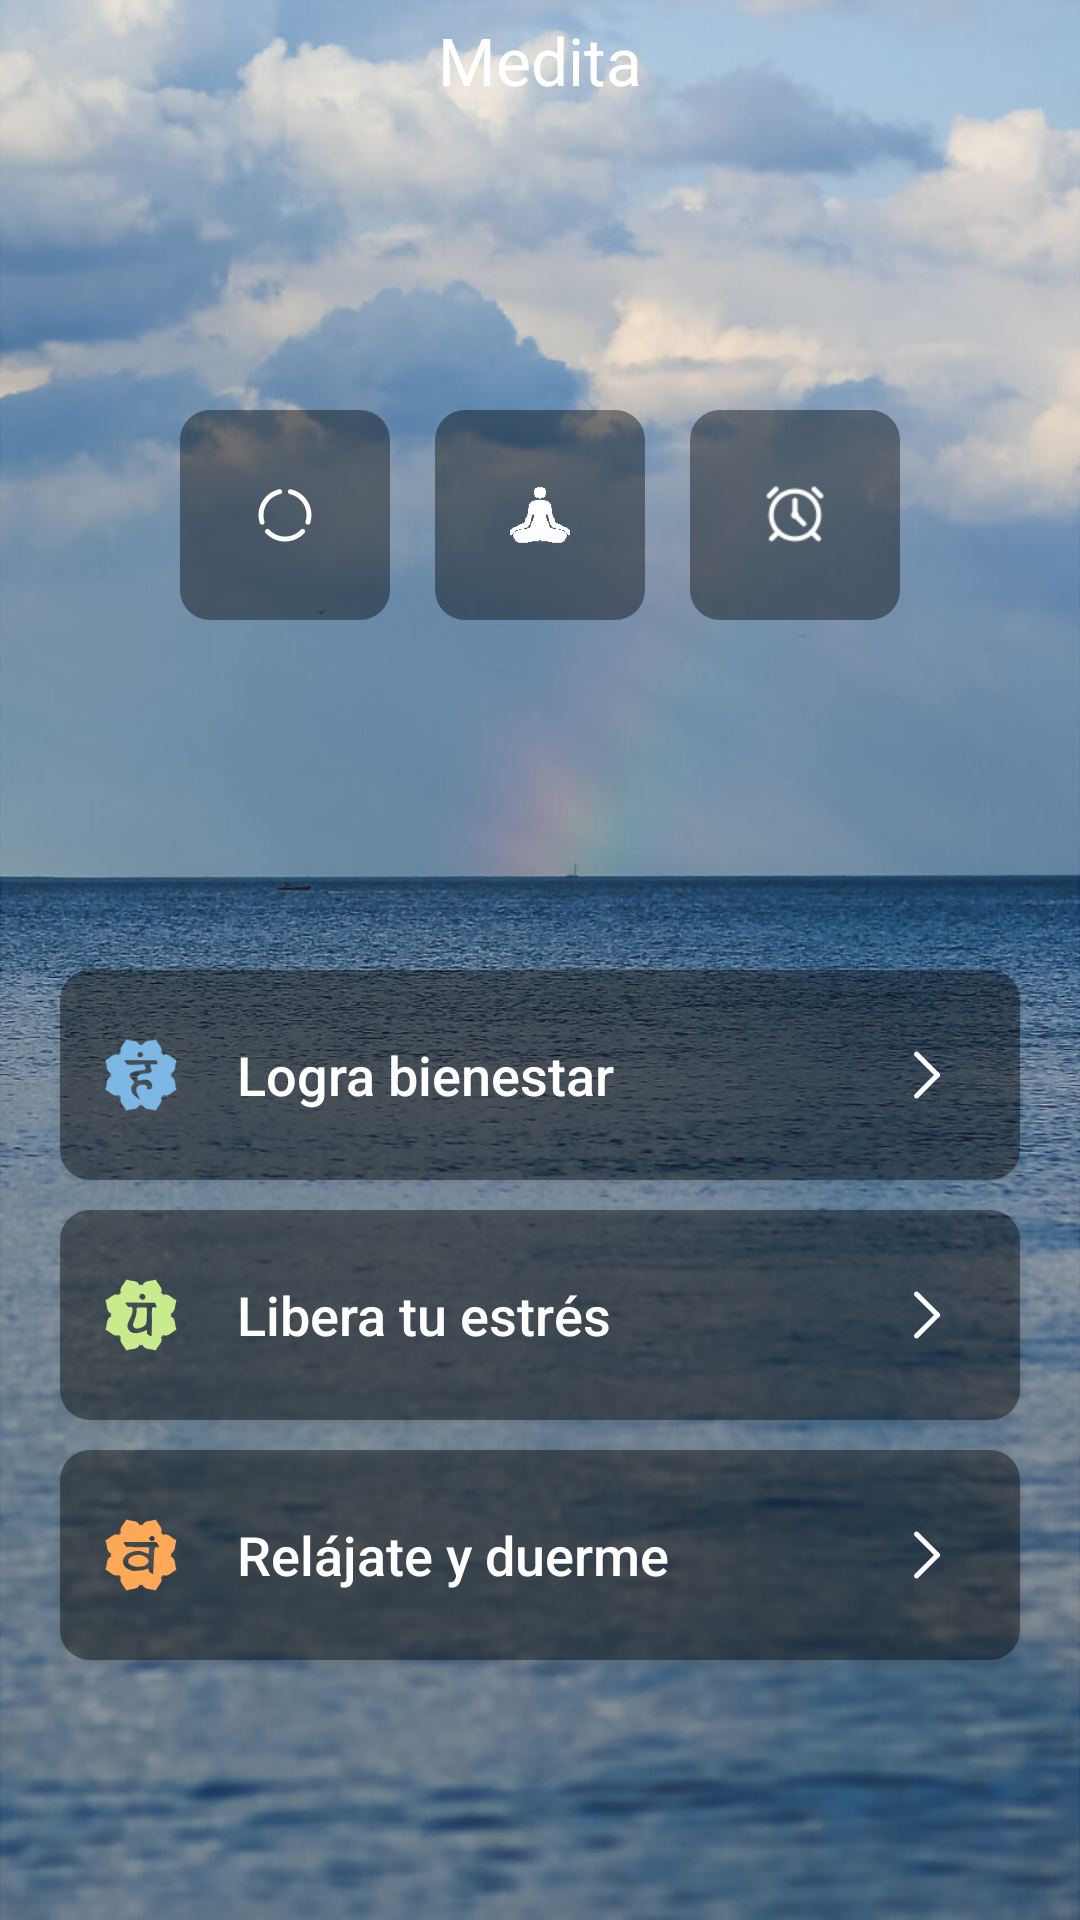

Where to tap for icons on this 1080px x 1920px app screen, as (x,y):
meditation: (540,515)
